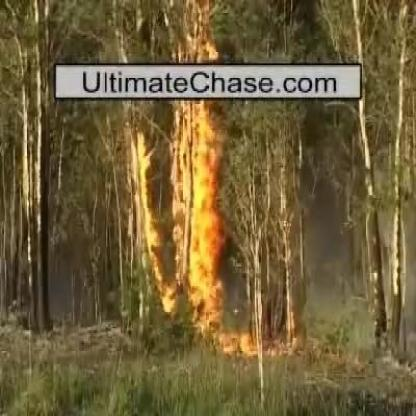-: (295, 195, 333, 307)
foggia-v2-map80-epoch100 - v1 4323: (135, 100, 234, 322)
